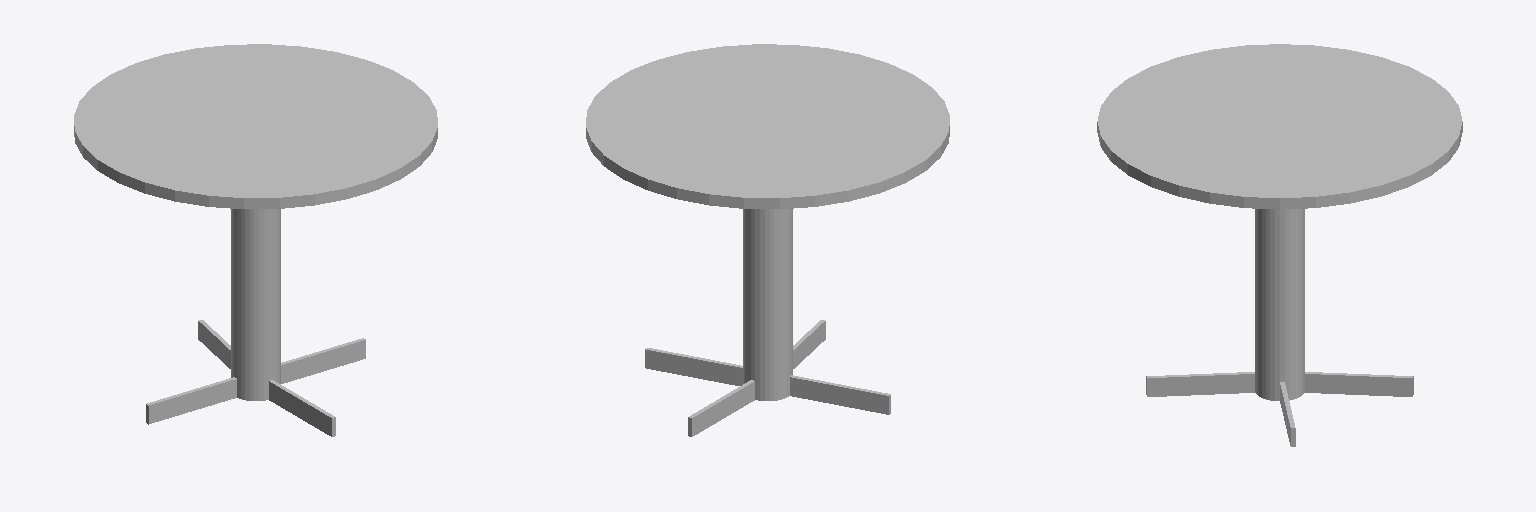
File: table.obj
3 views of the same model, side by side, from view 1: azimuth 30°, elevation 25°; view 2: azimuth 150°, elevation 25°; view 3: azimuth 270°, elevation 25° (orthographic).
Parts seen in each view (by area): view 1: Cylinder; view 2: Cylinder; view 3: Cylinder.
Boxes of the visible parts, x1,y1,x2,y2 form: Cylinder: [74, 44, 437, 436]; Cylinder: [586, 44, 949, 436]; Cylinder: [1097, 44, 1462, 446].
Bounding box in the file's own units: 1.97 × 1.61 × 1.97.